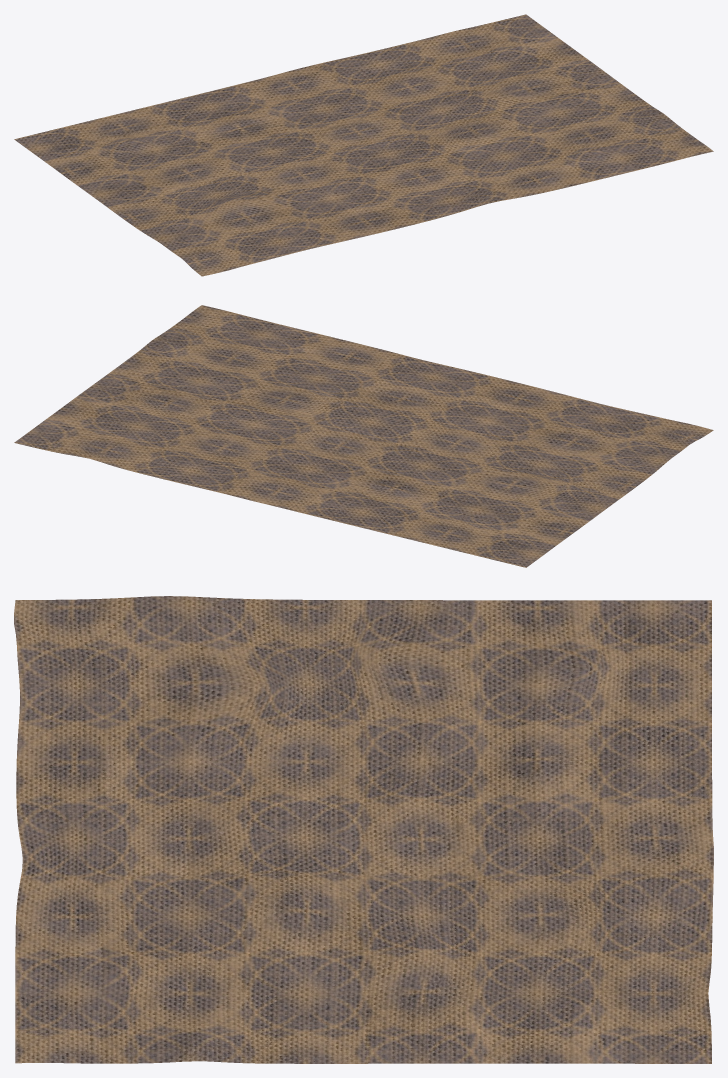
File: Tapete.fbx
3 views of the same model, one above another, from view 1: azimuth 30°, elevation 25°; view 2: azimuth 150°, elevation 25°; view 3: azimuth 270°, elevation 25° (orthographic). The views are drawn at different scales.
Parts seen in each view (by area): view 1: Plane; view 2: Plane; view 3: Plane.
Boxes of the visible parts, left/top/right/bottom form: Plane: left=14, top=14, right=713, bottom=276; Plane: left=14, top=305, right=713, bottom=567; Plane: left=14, top=596, right=713, bottom=1063.
Bounding box in the file's own units: 683 × 5.44 × 436.
Materials: 1 (1 with a texture image).
